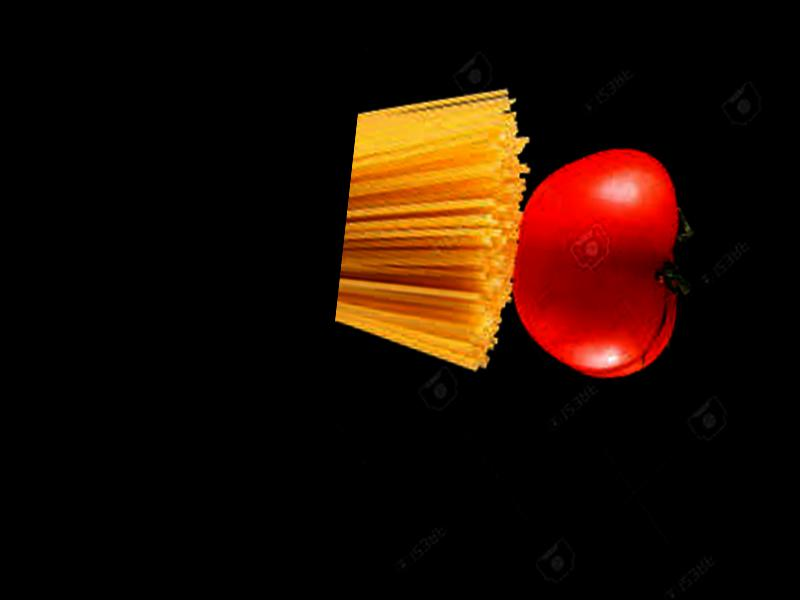Tomato: (503, 138, 694, 381)
